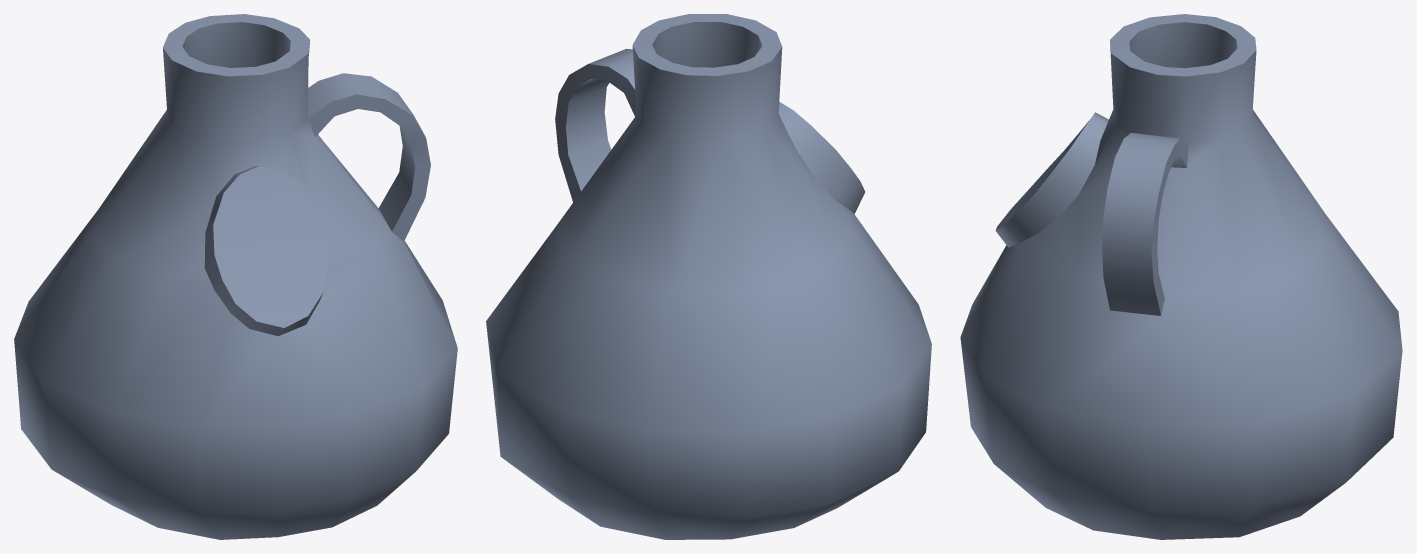
Rendered from SM_0inohoa.fbx.
The picture shows the model from 3 angles, left to right: view 1: azimuth 30°, elevation 25°; view 2: azimuth 150°, elevation 25°; view 3: azimuth 270°, elevation 25°; orthographic projection.
Parts seen in each view (by area): view 1: SM_0inohoa; view 2: SM_0inohoa; view 3: SM_0inohoa.
Boxes of the visible parts, x1,y1,x2,y2 form: SM_0inohoa: (14, 14, 457, 539); SM_0inohoa: (486, 14, 931, 539); SM_0inohoa: (960, 14, 1402, 539).
Size of the model in its own units: 0.2384 by 0.2545 by 0.2384.
